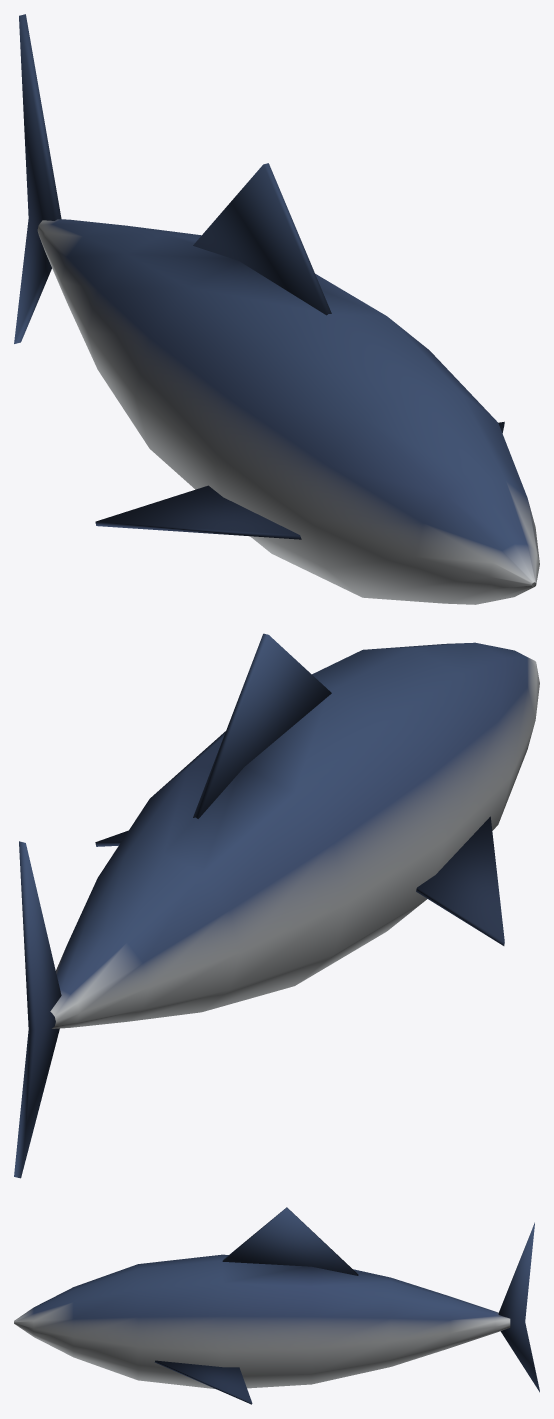
Rendered from thunfisch.glb.
3 views of the same model, one above another, from view 1: azimuth 30°, elevation 25°; view 2: azimuth 150°, elevation 25°; view 3: azimuth 270°, elevation 25° (orthographic). The views are drawn at different scales.
Visible parts, largest first — view 1: lack; view 2: lack; view 3: lack.
Boxes of the visible parts, box(x1,y1,x2,y2) form: lack: box(14, 14, 539, 604); lack: box(14, 633, 539, 1178); lack: box(14, 1207, 539, 1404).
Bounding box in the file's own units: 0.9218 × 0.7777 × 2.01.
